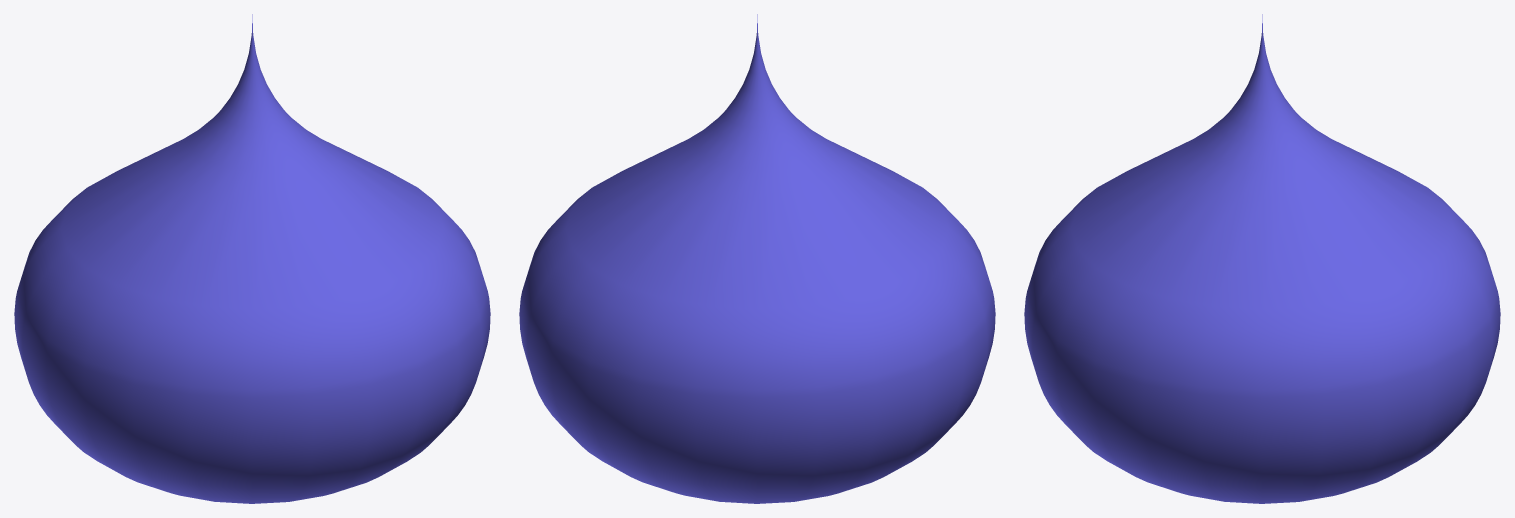
The model's file is petal.dae.
3 views of the same model, side by side, from view 1: azimuth 30°, elevation 25°; view 2: azimuth 150°, elevation 25°; view 3: azimuth 270°, elevation 25° (orthographic).
Visible parts, largest first — view 1: Lathe; view 2: Lathe; view 3: Lathe.
Boxes of the visible parts, left/top/right/bottom form: Lathe: left=14, top=14, right=490, bottom=503; Lathe: left=519, top=14, right=995, bottom=503; Lathe: left=1024, top=14, right=1500, bottom=503.
Bounding box in the file's own units: 412 × 439 × 412.
